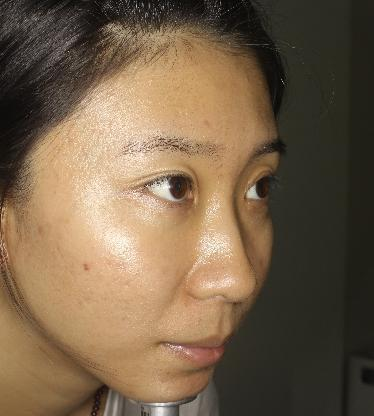Papules: (80, 261, 92, 273)
